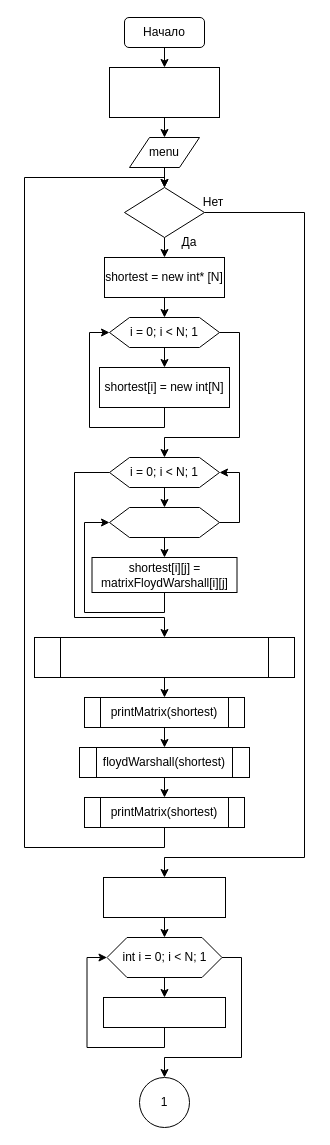
Image size: 330x1145. Some labels were removed from this diagram. Each missing label, with the centre of its shape:
j = 0; j < N; 1: pixel 164 522
menu = 1: pixel 164 212
ostov = new int* [N]: pixel 164 897
ostov[i] = new int[N]: pixel 164 1012
printMatrixStatic(matrixFloydWarshall): pixel 164 657
Инициализация переменных: pixel 164 92
